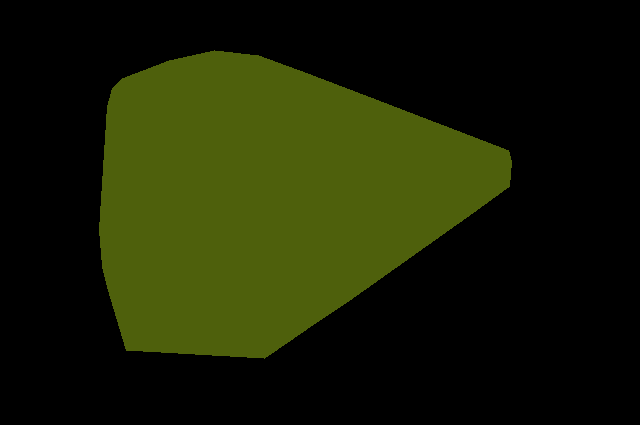Train: (99, 50, 512, 359)
